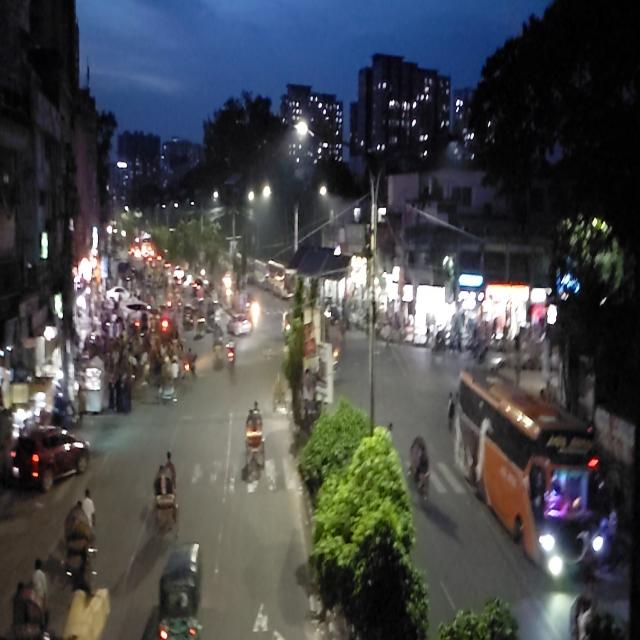maroon: (7, 426, 85, 490)
